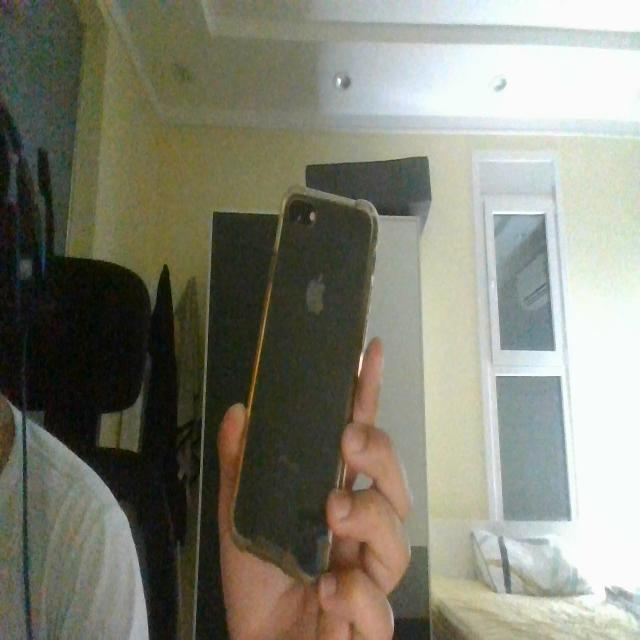Phone: (228, 186, 382, 584)
